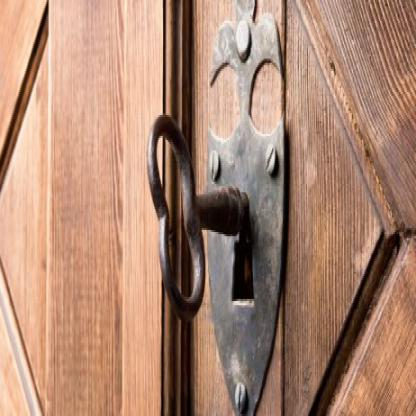keys: (146, 116, 250, 329)
